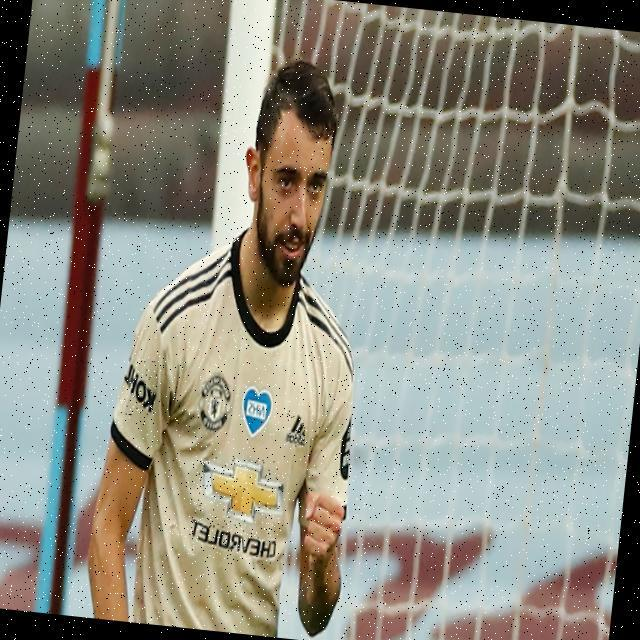Adidas: (283, 410, 307, 449)
Chevrolet: (184, 452, 286, 564)
Kohler: (119, 357, 159, 418)
